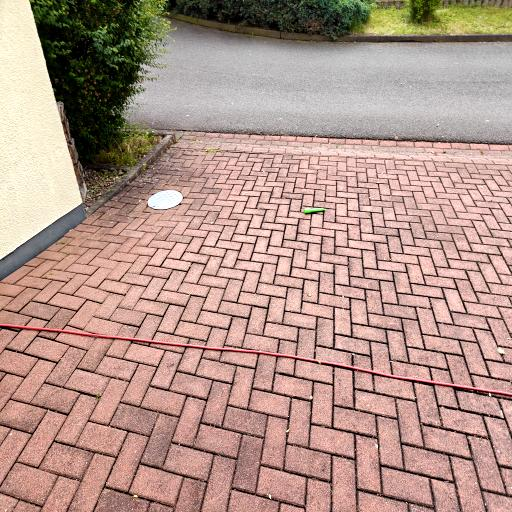Probe-Detection: (304, 208, 325, 214)
